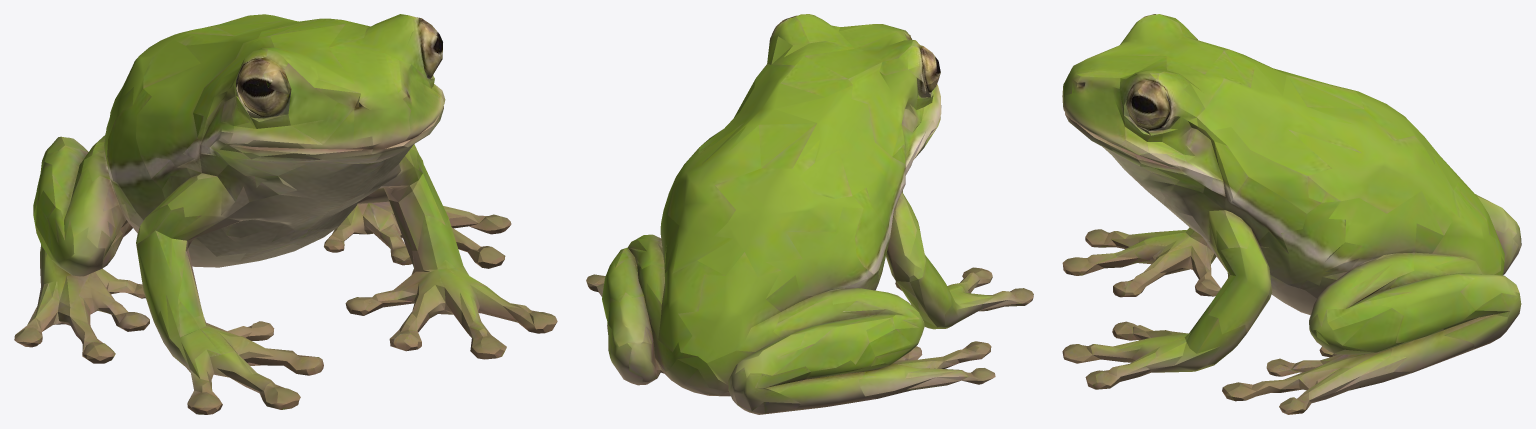
File: sp_m_frogtree.glb
The picture shows the model from 3 angles, left to right: view 1: azimuth 30°, elevation 25°; view 2: azimuth 150°, elevation 25°; view 3: azimuth 270°, elevation 25°; orthographic projection. The views are drawn at different scales.
Parts seen in each view (by area): view 1: Mesh_0; view 2: Mesh_0; view 3: Mesh_0.
Boxes of the visible parts, box(x1,y1,x2,y2) form: Mesh_0: box(14, 14, 557, 414); Mesh_0: box(586, 14, 1033, 414); Mesh_0: box(1062, 14, 1521, 414).
Bounding box in the file's own units: 1.9 × 1.15 × 1.76.
1 material, 1 textured.
